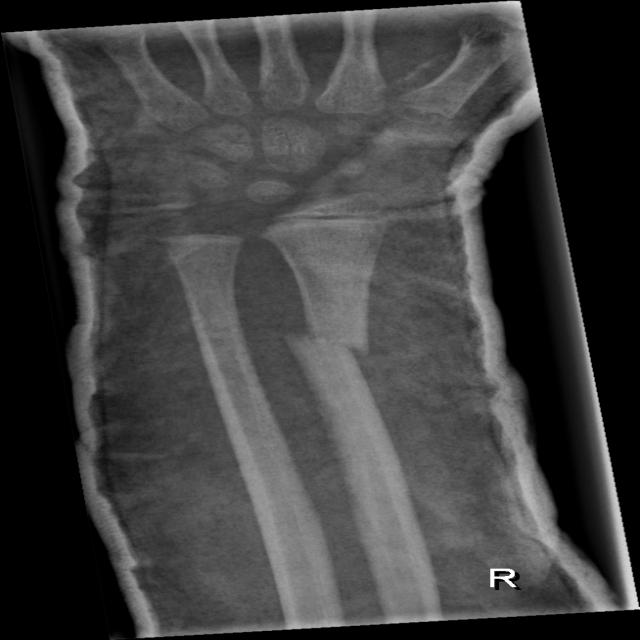radius fracture: (271, 287, 397, 399)
